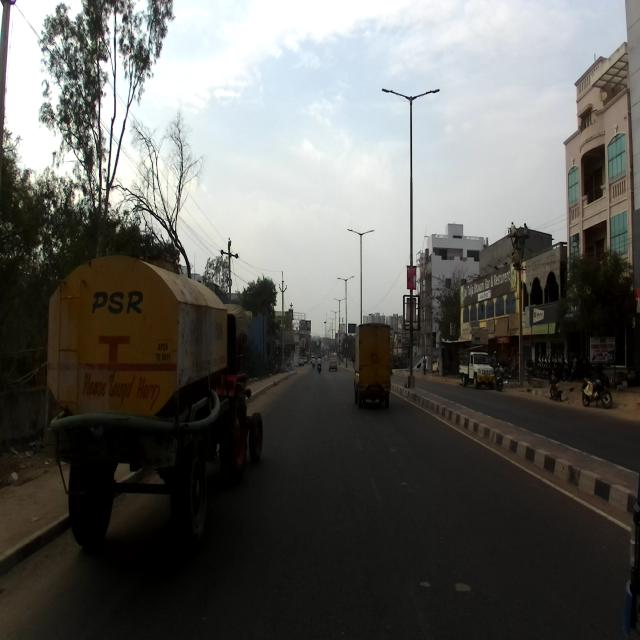truck ahead at: (50, 250, 266, 528), (350, 321, 396, 415)
